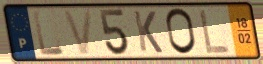5: (98, 7, 131, 57)
K: (132, 9, 165, 55)
L: (31, 9, 67, 57), (197, 7, 231, 56)
O: (164, 7, 198, 57)
V: (61, 8, 95, 57)
